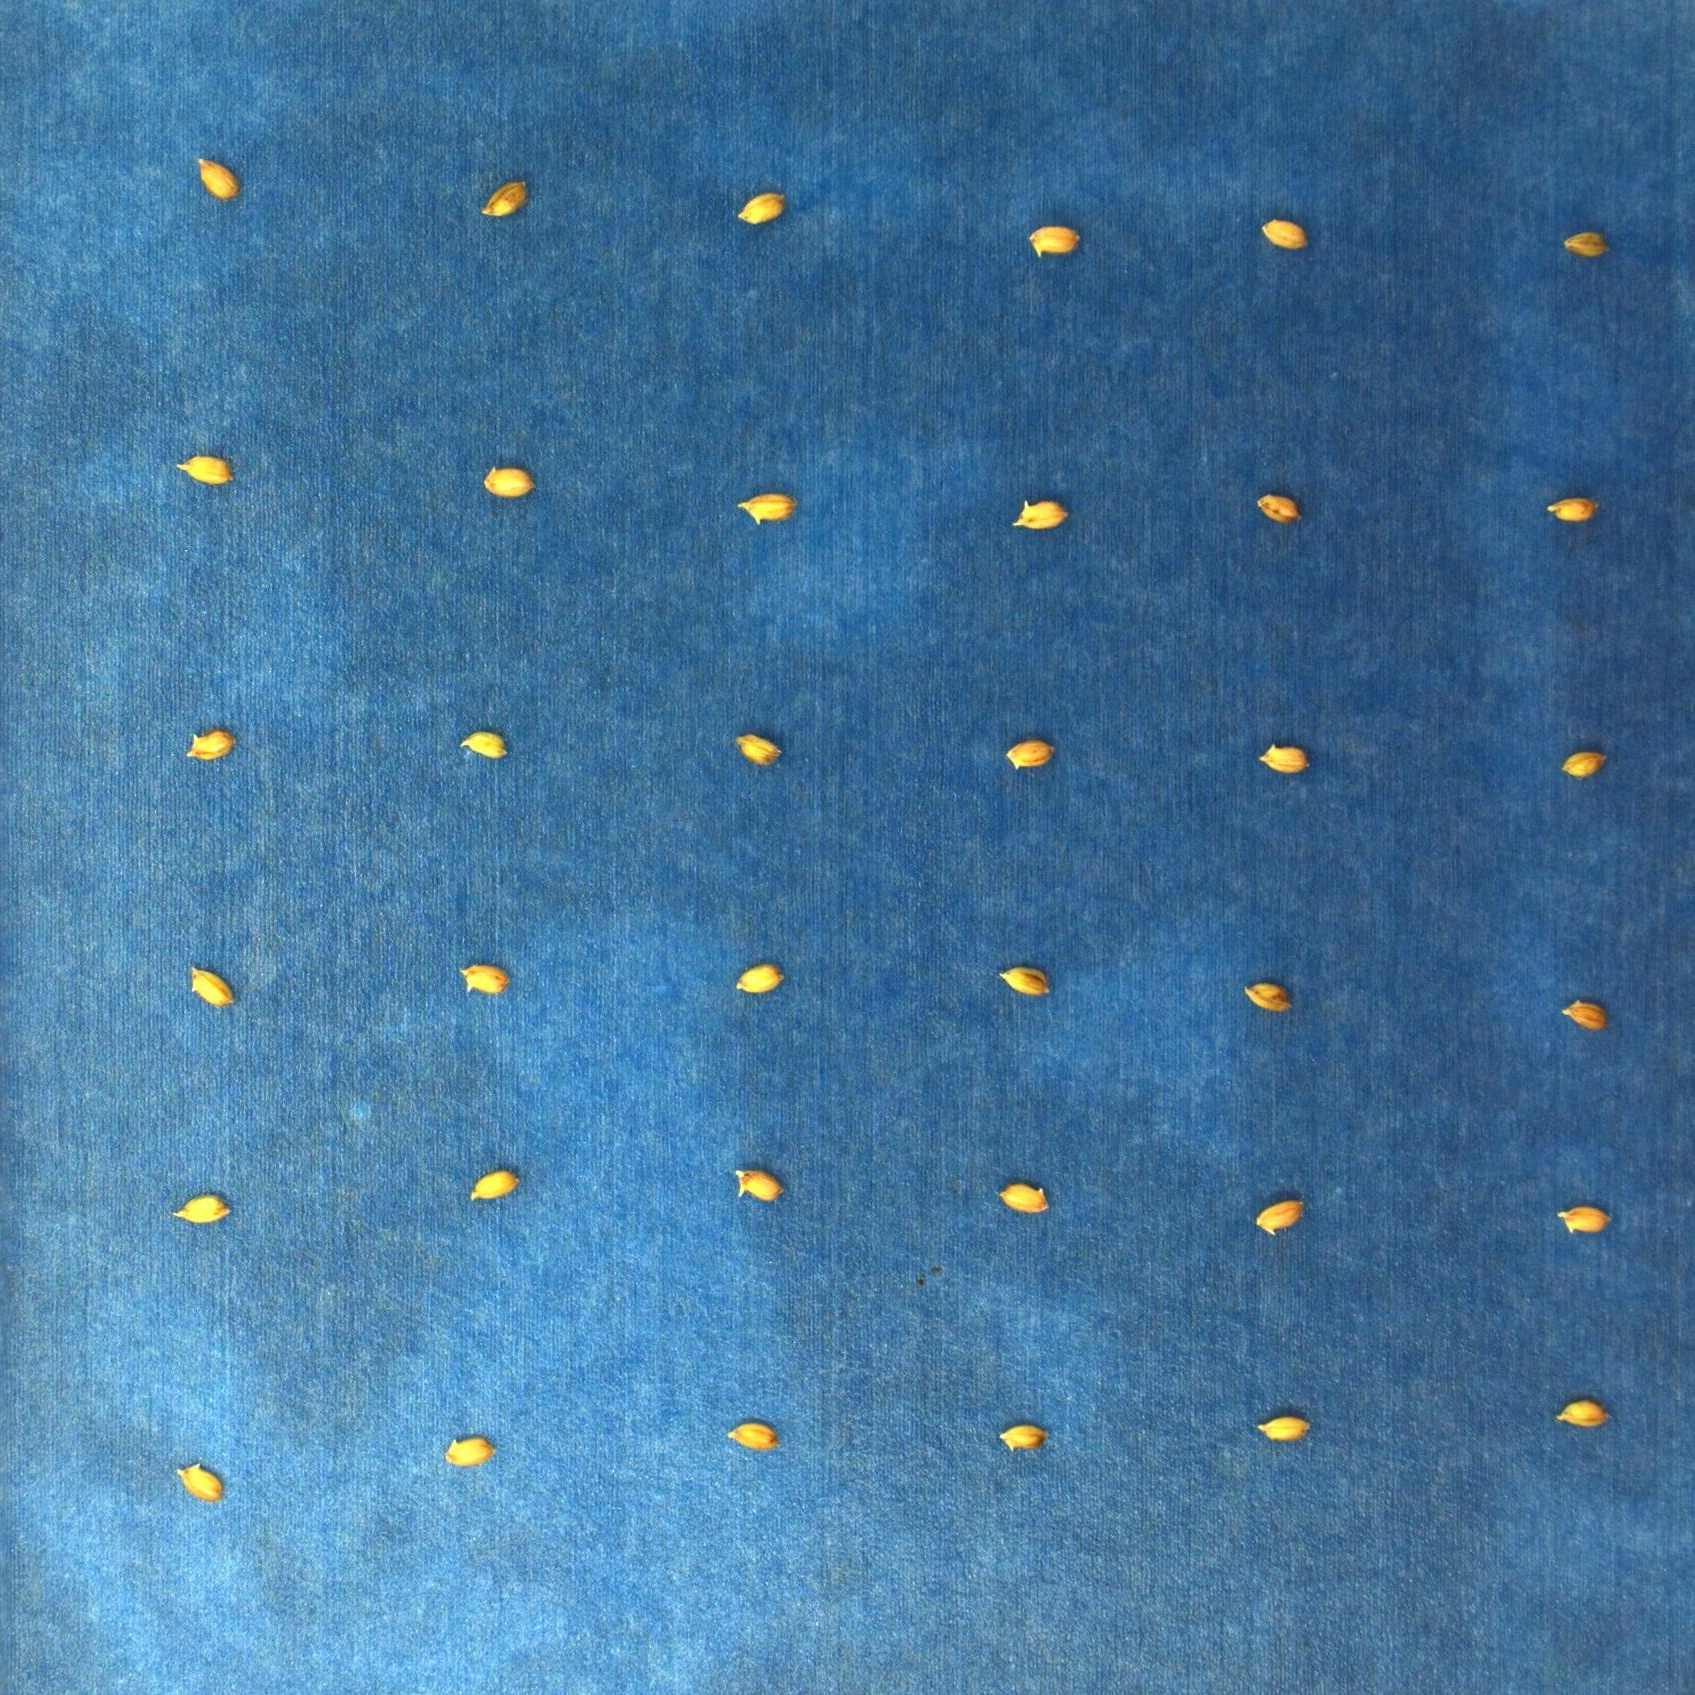not sprout: (1004, 483, 1076, 539), (1535, 484, 1610, 536), (171, 447, 241, 501), (1557, 736, 1628, 789), (731, 478, 802, 529), (182, 955, 245, 1012), (175, 720, 241, 776), (439, 1426, 508, 1479), (1020, 210, 1082, 267), (456, 1156, 528, 1205), (168, 1454, 230, 1509), (1246, 1403, 1316, 1451), (1548, 1191, 1614, 1240), (458, 956, 518, 1010), (475, 169, 536, 224), (1240, 478, 1305, 528), (989, 1414, 1051, 1465), (1253, 730, 1315, 781), (166, 1184, 234, 1229), (477, 453, 537, 503), (1246, 1191, 1307, 1240), (1557, 989, 1617, 1038), (722, 956, 792, 998), (1240, 967, 1295, 1020), (987, 1173, 1051, 1218), (726, 1156, 785, 1205), (731, 189, 792, 236), (453, 723, 515, 768), (1000, 726, 1063, 770), (1256, 206, 1313, 255), (1555, 1392, 1613, 1440), (990, 962, 1051, 1007), (1558, 220, 1617, 265), (720, 1414, 784, 1454), (191, 154, 237, 203), (731, 730, 789, 768)
